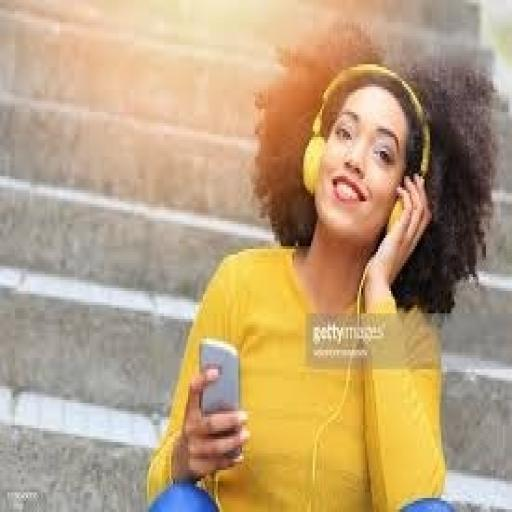listening_to_music: (143, 20, 499, 509)
